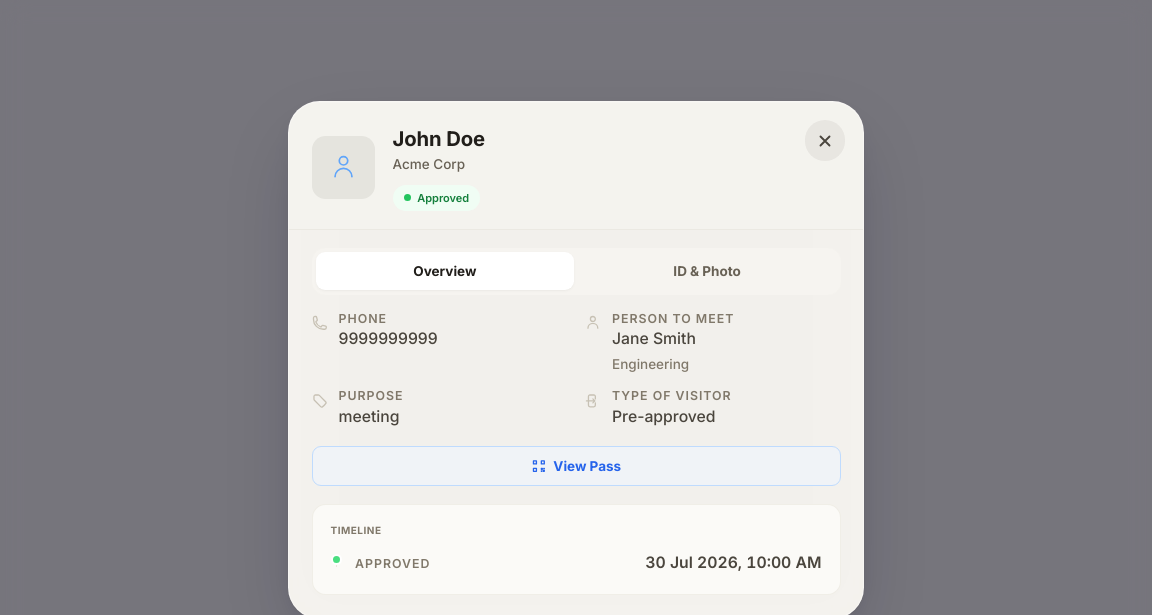
Scenario: VisitorDetails — reopening the entry pass › expanded pass repeats none of the identity shown in the popup — no second name, vendor or ID
Click the button "View Pass" at (576, 466), box top-left (312, 446), bottom-right (840, 486)
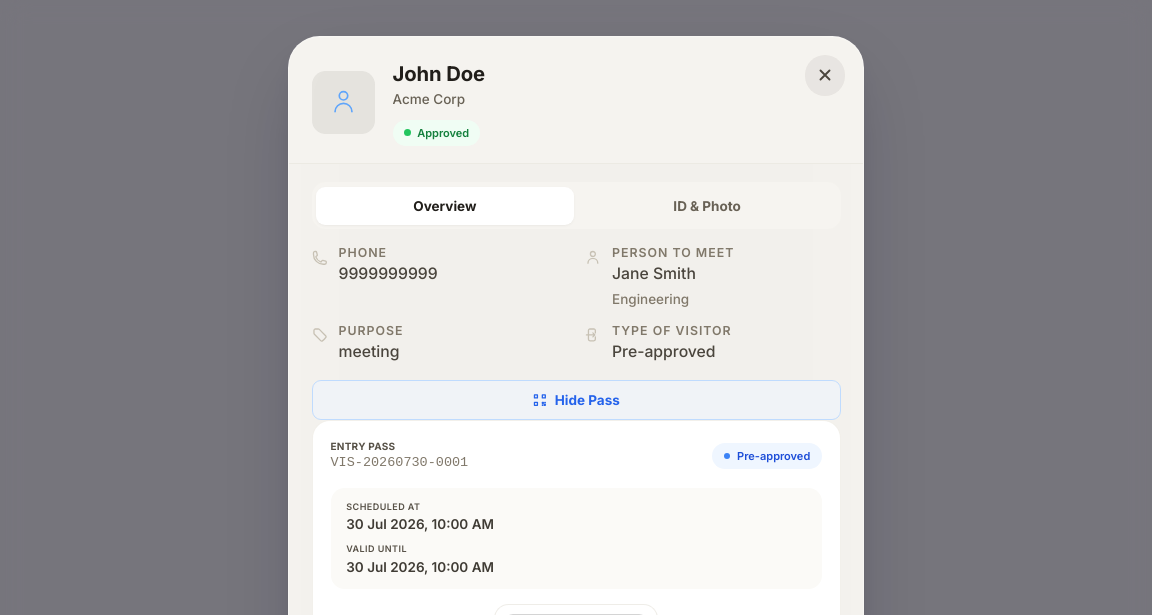
Expected: the text "John Doe" is shown once, top-left (392, 60), bottom-right (485, 86)
Result: the text "Scheduled At" is shown at top-left (346, 501), bottom-right (420, 512)
Result: the text "Valid Until" is shown at top-left (346, 543), bottom-right (407, 554)
